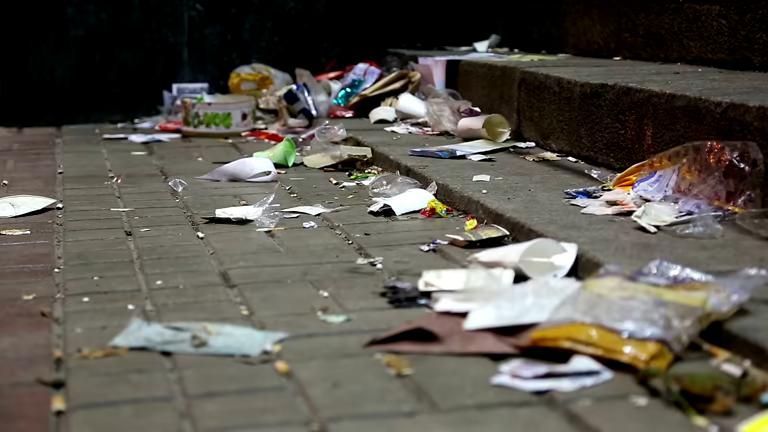trash: (563, 144, 755, 263), (550, 252, 723, 377), (353, 312, 557, 373), (114, 304, 312, 364), (315, 40, 424, 125), (407, 103, 534, 170), (661, 339, 756, 418), (490, 344, 610, 395), (373, 75, 470, 136), (431, 29, 559, 72), (205, 125, 282, 193), (356, 159, 437, 223), (260, 56, 330, 130), (463, 241, 574, 285), (174, 83, 259, 140), (424, 265, 516, 313), (311, 118, 374, 188), (188, 198, 292, 239), (257, 118, 331, 173), (158, 60, 218, 127), (222, 48, 286, 101), (0, 181, 68, 222), (273, 192, 342, 232), (134, 105, 198, 147), (448, 216, 508, 253)
